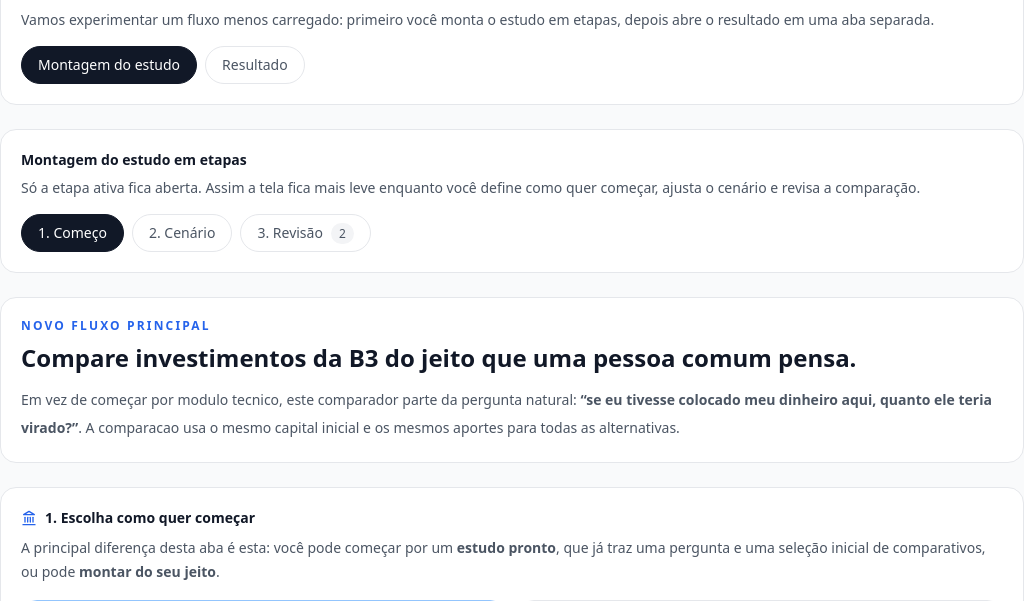
Scenario: InvestmentsWorkspace › reveals the review content only on the review tab
Click the button "3. Revisão2".
click(306, 233)  # box [240,214,371,252]
(page scrolled)
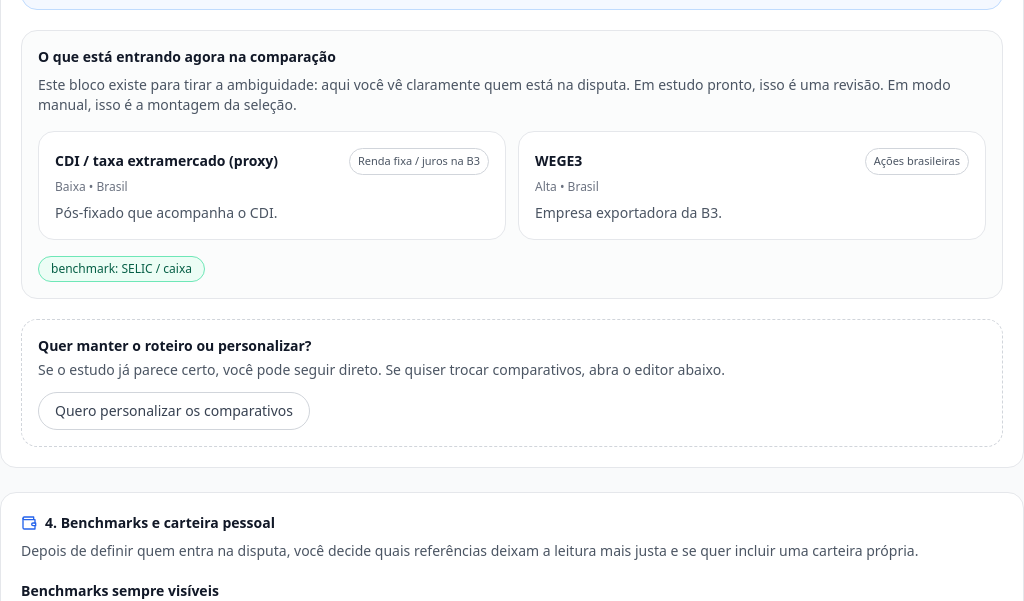
Now the text "O que está entrando agora na comparação" is shown, box [38,47,336,66]
Now the text "Quer manter o roteiro ou personalizar?" is shown, box [38,336,312,354]
